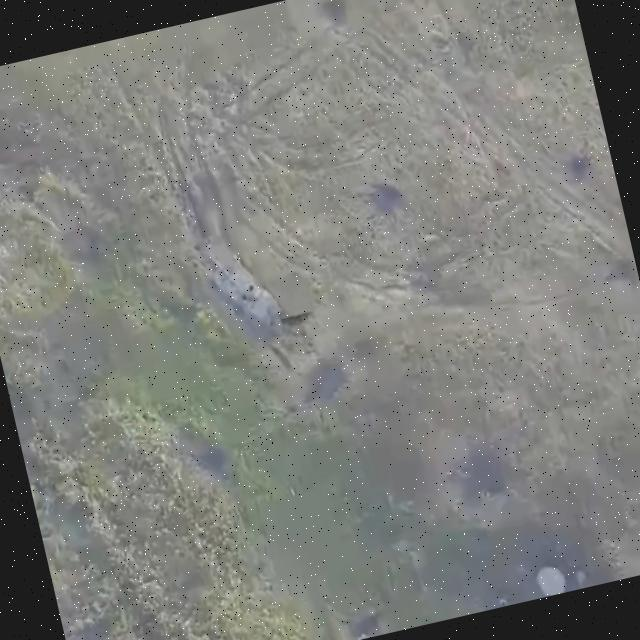MBT: (203, 228, 295, 345)
